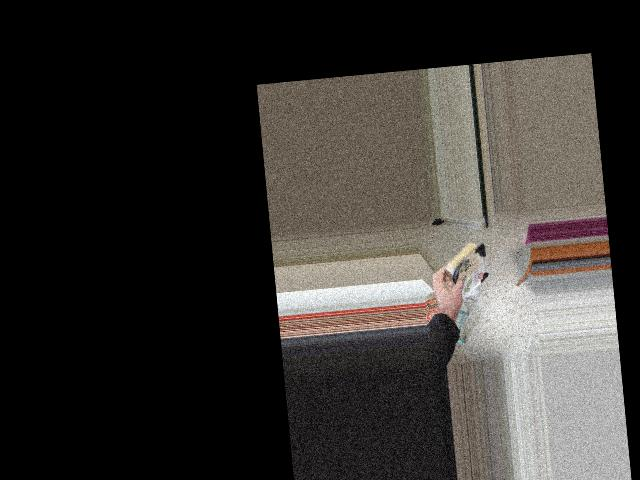cheese: (423, 226, 506, 297)
